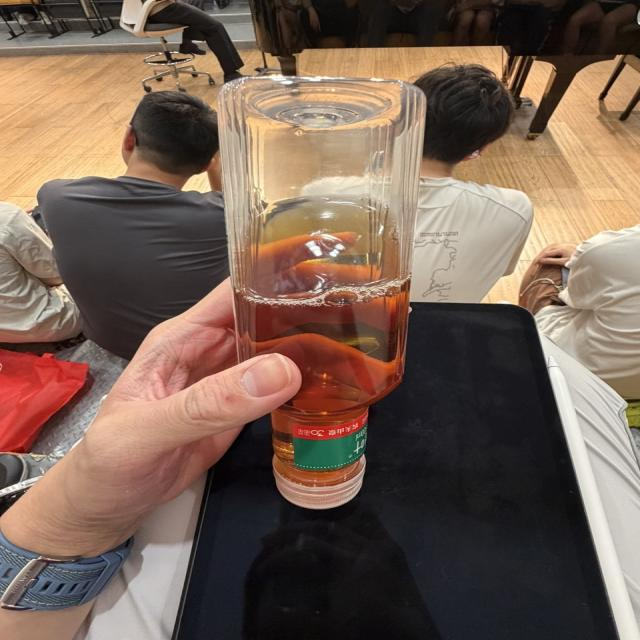medium: (219, 78, 425, 494)
